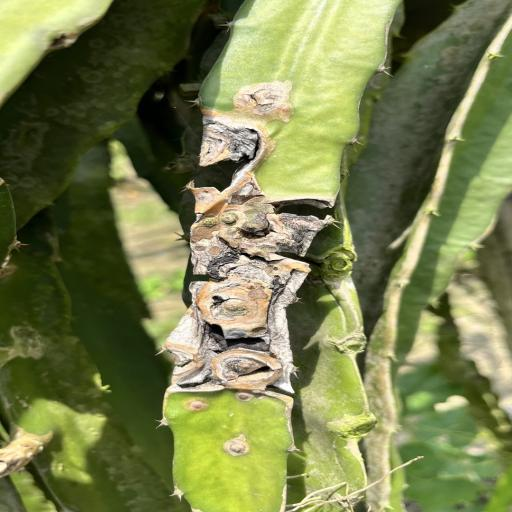stemcanker: (213, 430, 266, 464), (202, 212, 240, 236), (230, 392, 260, 413), (184, 396, 212, 416), (221, 408, 241, 426), (226, 412, 243, 419)
